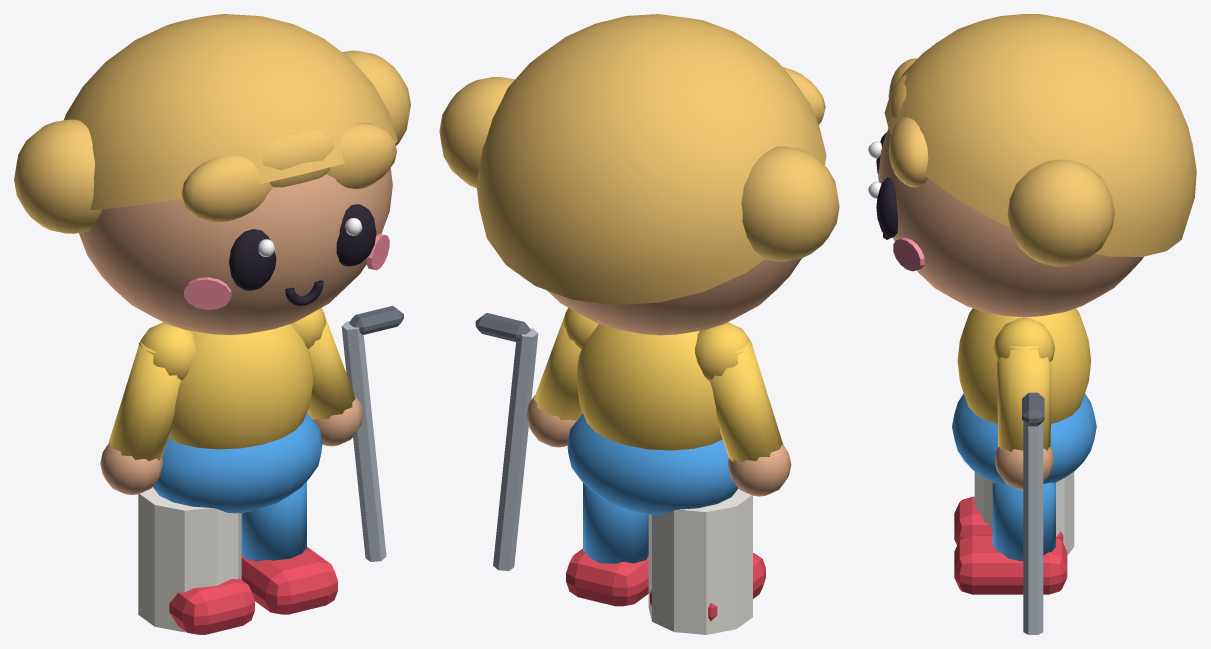
File: char_patient_kid.glb
The picture shows the model from 3 angles, left to right: view 1: azimuth 30°, elevation 25°; view 2: azimuth 150°, elevation 25°; view 3: azimuth 270°, elevation 25°; orthographic projection. The views are drawn at different scales.
Parts seen in each view (by area): view 1: head, char_patient_kid; view 2: head, char_patient_kid; view 3: head, char_patient_kid.
Boxes of the visible parts, box(x1,y1,x2,y2) form: head: box(14, 14, 410, 335); char_patient_kid: box(100, 306, 403, 634); head: box(439, 14, 839, 335); char_patient_kid: box(475, 307, 791, 634); head: box(868, 14, 1196, 317); char_patient_kid: box(952, 308, 1096, 634).
Bounding box in the file's own units: 0.92 × 1.31 × 0.7259.
